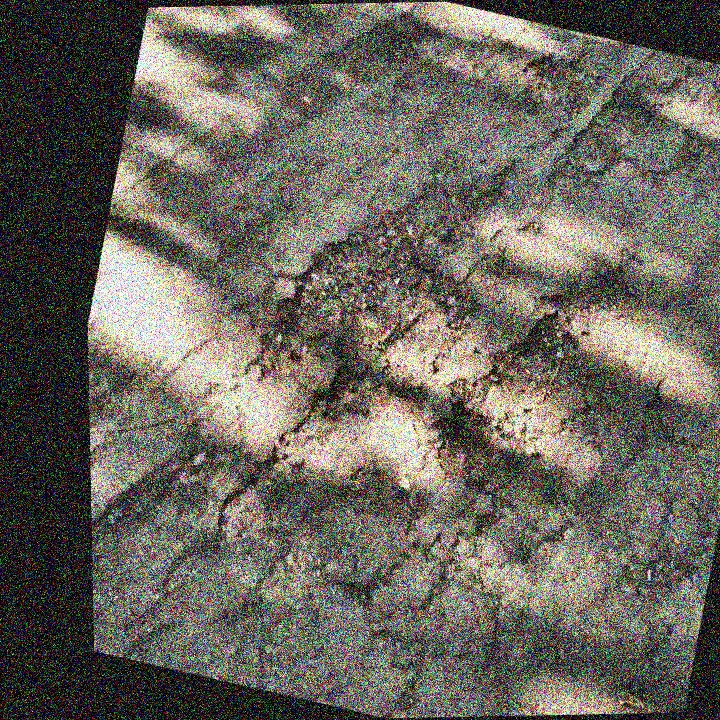pothole: (235, 191, 483, 448), (420, 282, 590, 503), (513, 36, 603, 131)
